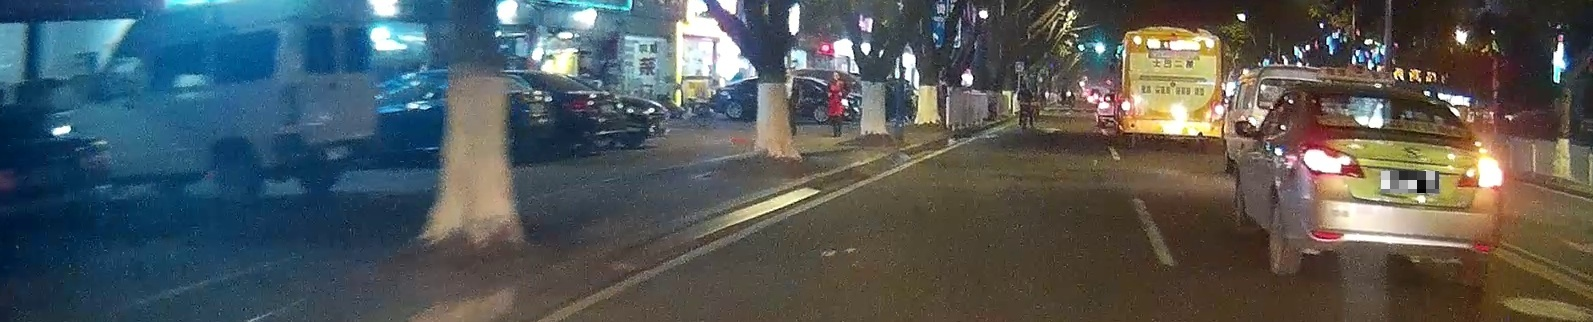L_light: (1296, 143, 1366, 178), (1122, 96, 1133, 115)
R_light: (1458, 156, 1503, 187), (1211, 100, 1223, 119)
T_light: (1369, 95, 1406, 103), (1163, 35, 1178, 39)
night-no: (1121, 27, 1224, 151)
night-right: (1297, 83, 1504, 286)
plate_1: (1381, 171, 1439, 193)
